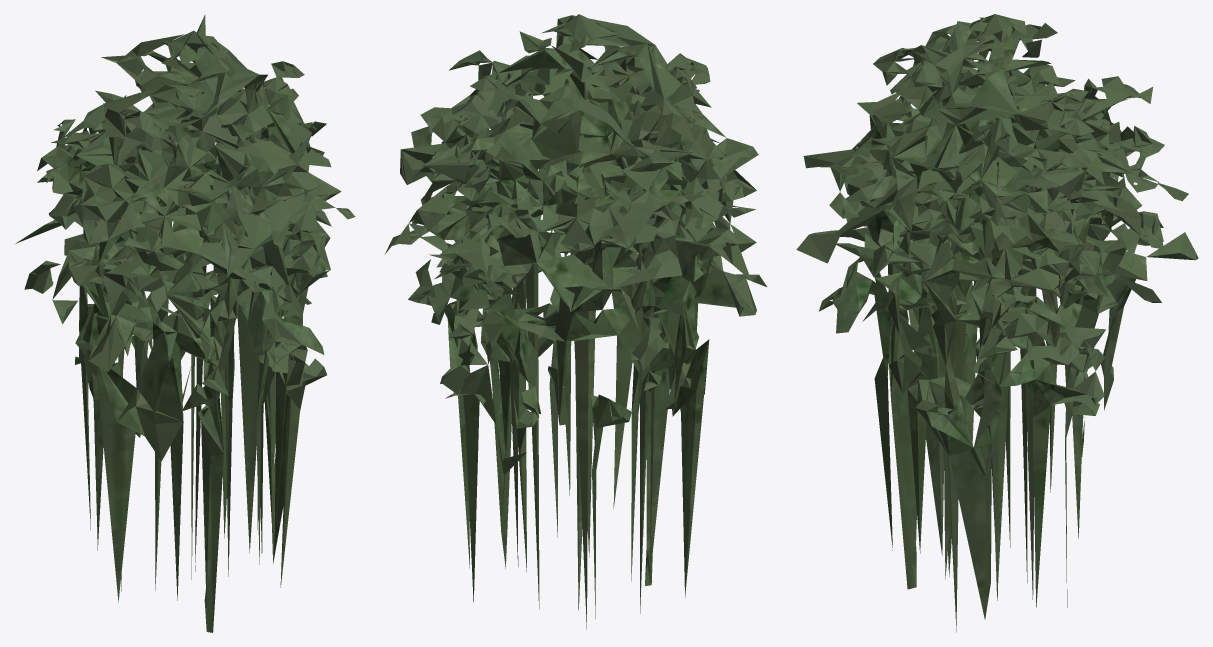
File: bamboo.glb
The picture shows the model from 3 angles, left to right: view 1: azimuth 30°, elevation 25°; view 2: azimuth 150°, elevation 25°; view 3: azimuth 270°, elevation 25°; orthographic projection. The views are drawn at different scales.
Parts seen in each view (by area): view 1: bamboo; view 2: bamboo; view 3: bamboo.
Boxes of the visible parts, x1=… form: bamboo: x1=15, y1=14, x2=355, y2=632; bamboo: x1=385, y1=14, x2=766, y2=629; bamboo: x1=796, y1=14, x2=1198, y2=632.
Bounding box in the file's own units: 3.14 × 5.5 × 3.39.
1 material, 1 textured.
